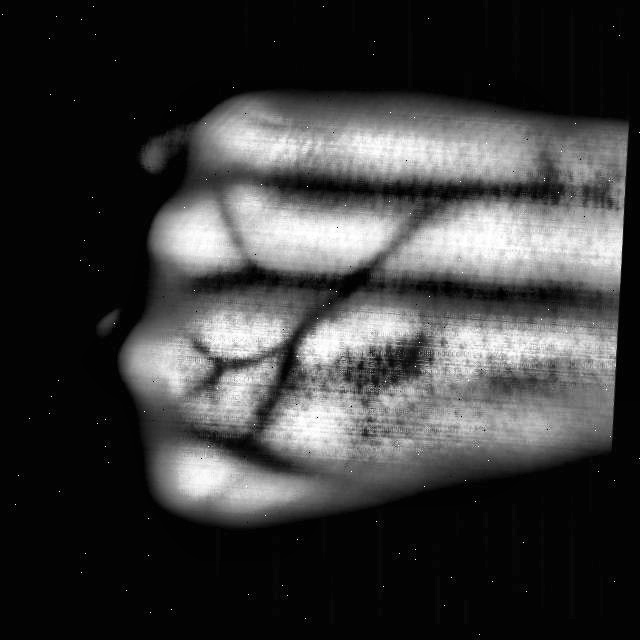Vein: (305, 269, 517, 308), (324, 173, 528, 204)
